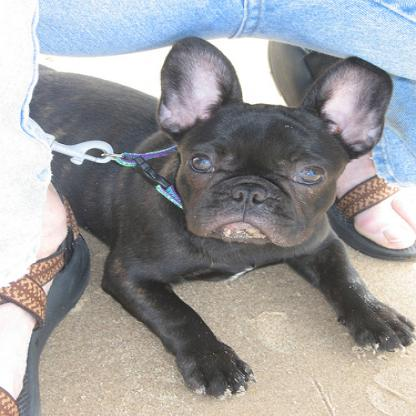French_bulldog: (26, 34, 412, 398)
